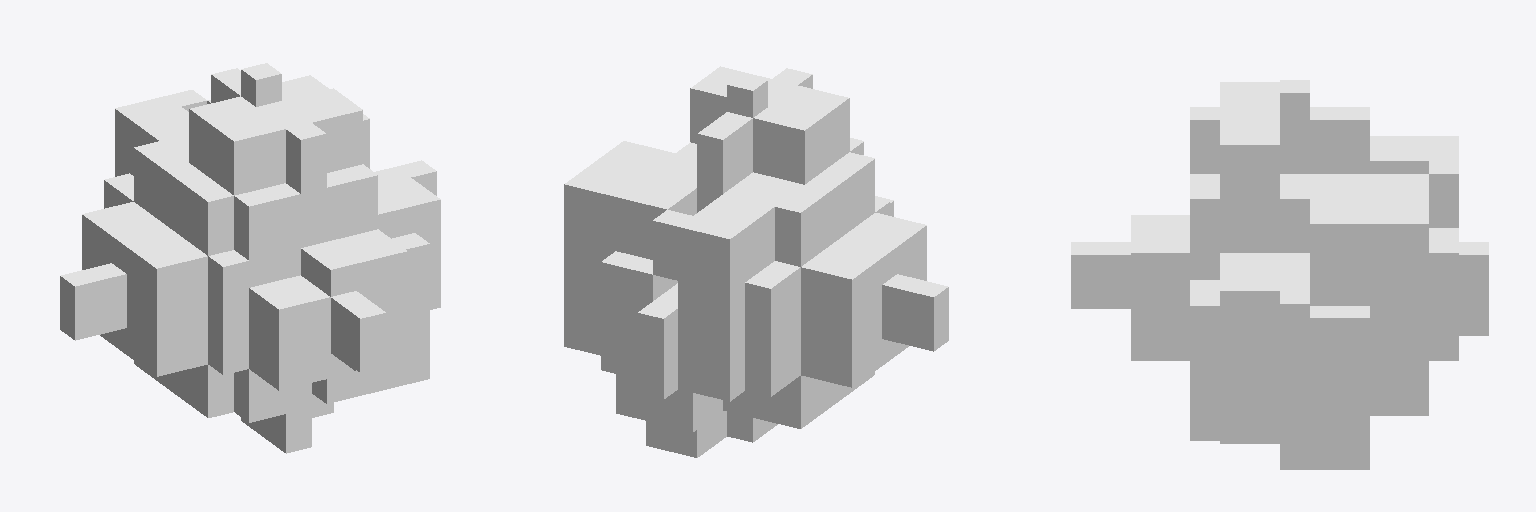
The model's file is black_tower_with_projectile-1.obj.
3 views of the same model, side by side, from view 1: azimuth 30°, elevation 25°; view 2: azimuth 150°, elevation 25°; view 3: azimuth 270°, elevation 25° (orthographic).
Parts seen in each view (by area): view 1: object 1; view 2: object 1; view 3: object 1.
Part boxes in pixels (x1,y1,x2,y2): object 1: (60, 63, 440, 453); object 1: (564, 66, 948, 457); object 1: (1071, 80, 1488, 469).
Size of the model in its own units: 1.4 by 1.3 by 1.4.